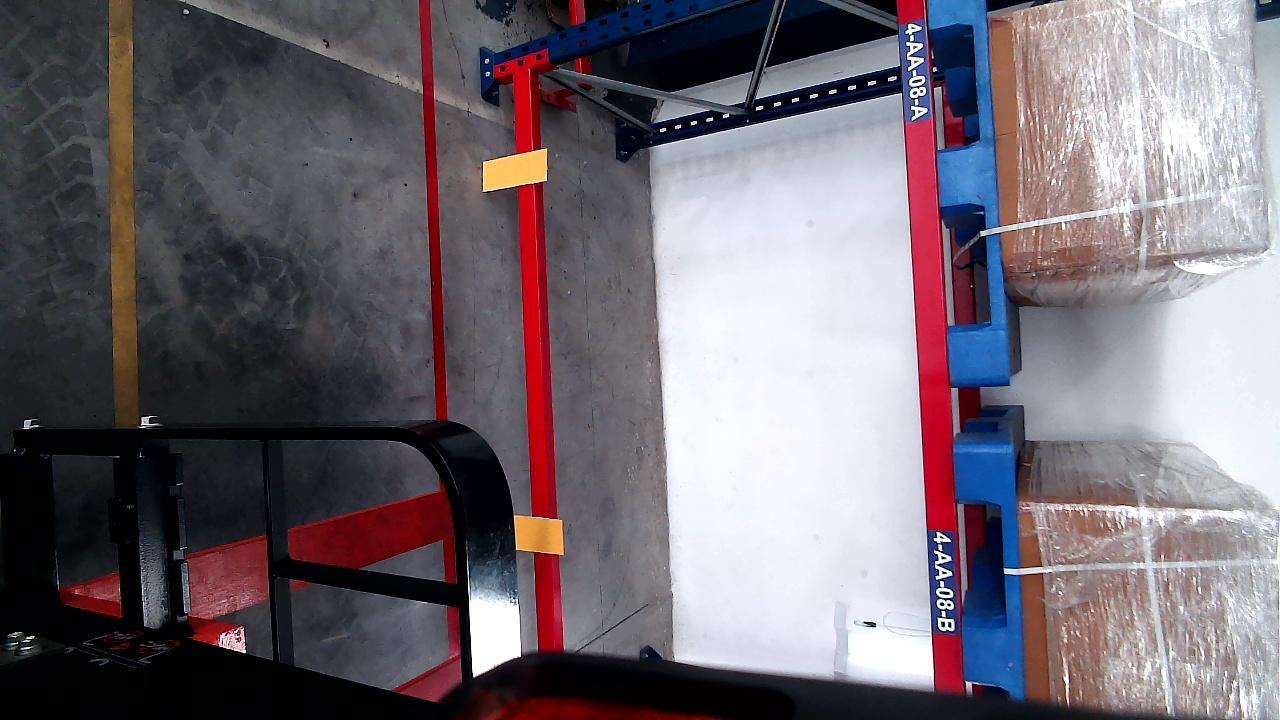red_line: (419, 1, 450, 424)
yellow_line: (109, 0, 139, 426)
